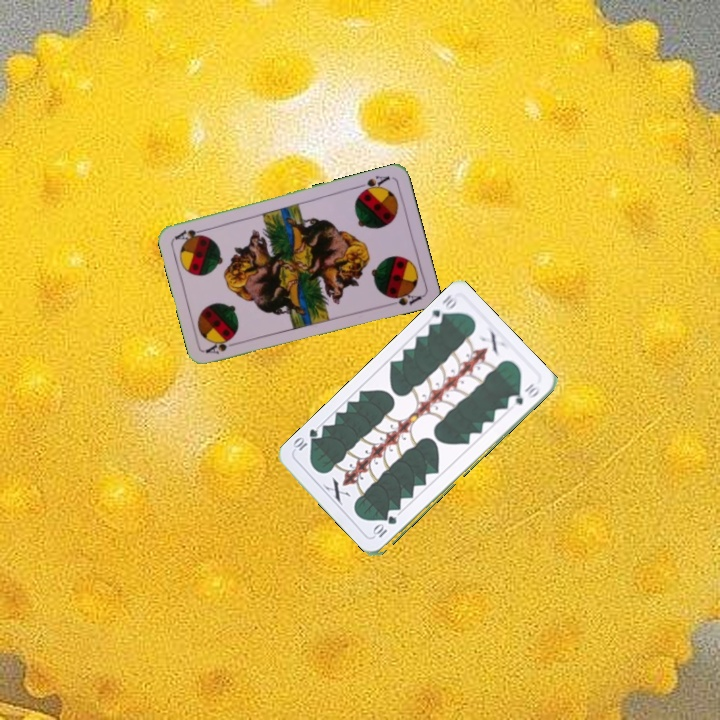G10: (424, 291, 459, 328), (370, 512, 399, 540)
SA: (353, 171, 392, 196), (202, 335, 242, 357)
